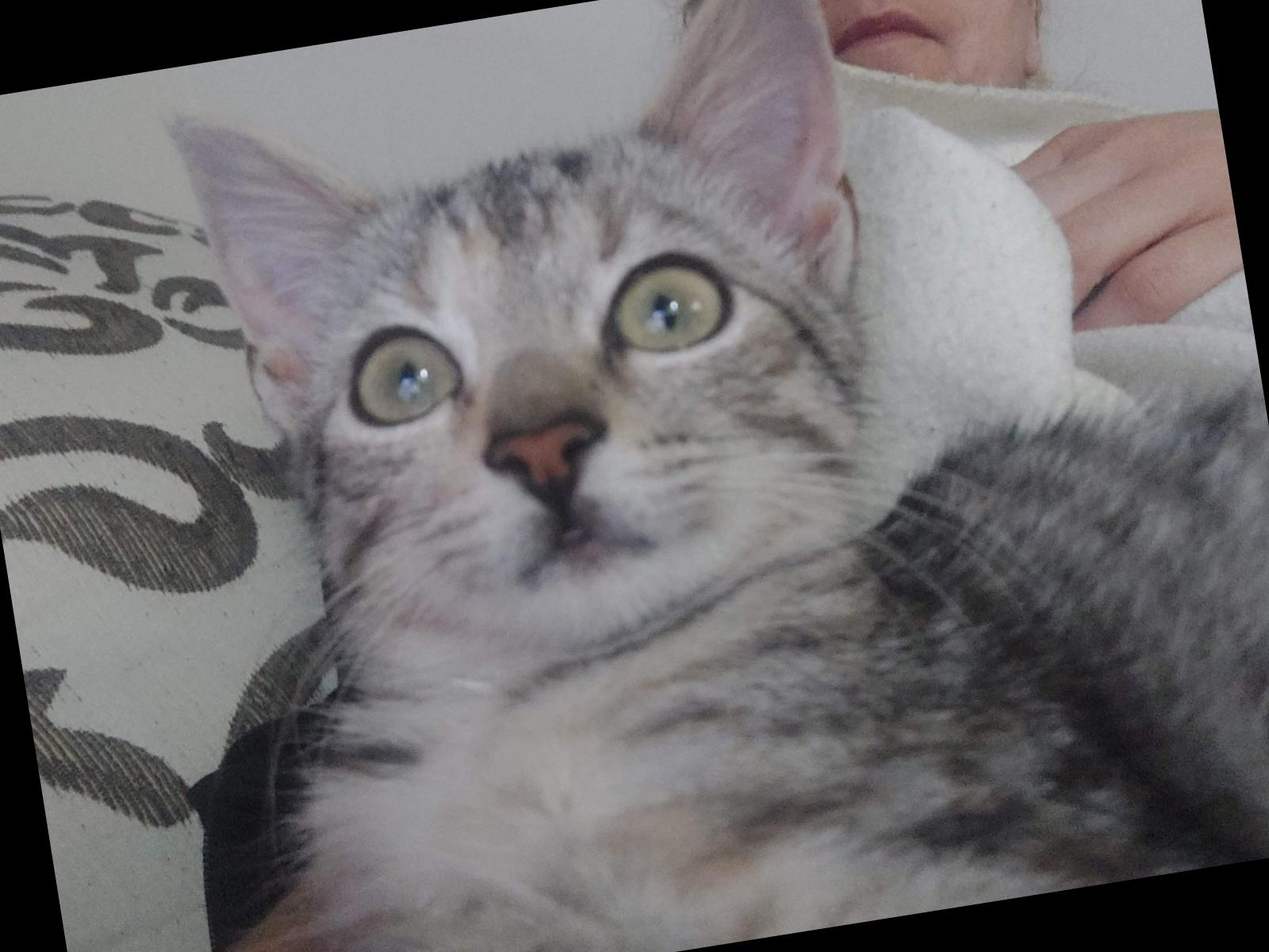macka: (156, 0, 1269, 952)
